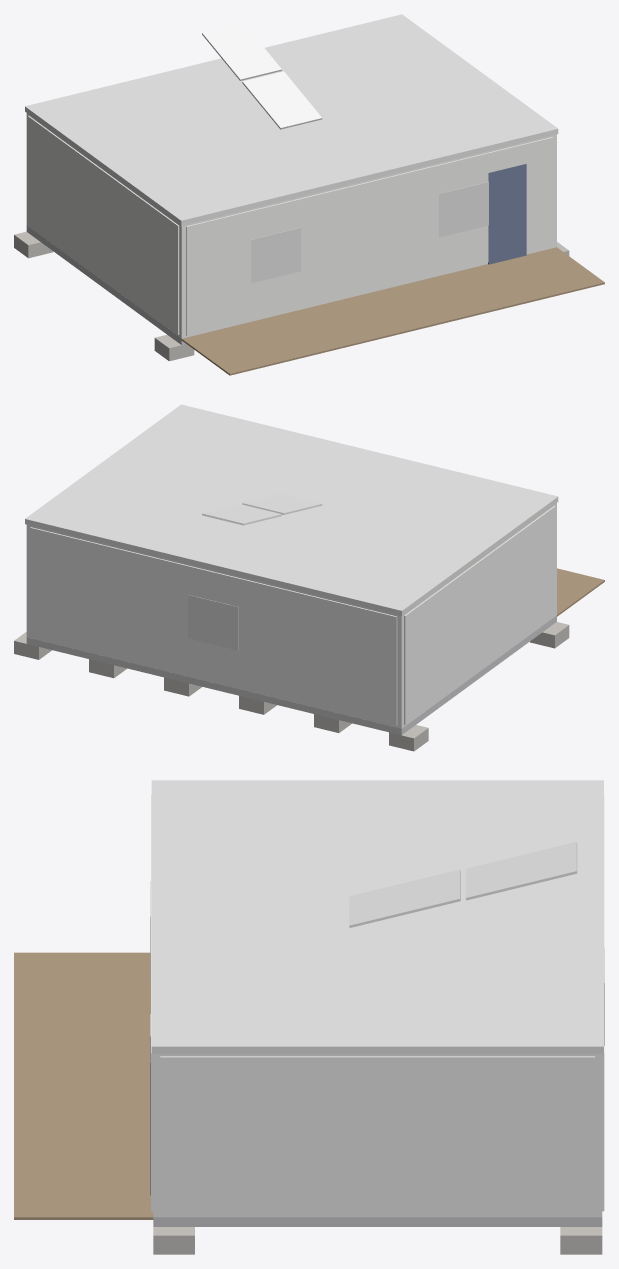
Rendered from Studio-30-FullSolar+TerraceDeck-LOD2.glb.
3 views of the same model, one above another, from view 1: azimuth 30°, elevation 25°; view 2: azimuth 150°, elevation 25°; view 3: azimuth 270°, elevation 25° (orthographic). The views are drawn at different scales.
Visible parts, largest first — view 1: RoofMain, ExteriorPanelsStandard, TerraceDeck, SolarPanelArray, WindowsStandard, EntryDoor, ExteriorShell, FoundationBlocks, BaseFrame; view 2: RoofMain, ExteriorPanelsStandard, BaseFrame, FoundationBlocks, ExteriorShell, WindowsStandard, SolarPanelArray, TerraceDeck; view 3: RoofMain, ExteriorPanelsStandard, TerraceDeck, SolarPanelArray, ExteriorShell, BaseFrame, FoundationBlocks.
Part boxes in pixels (x1,y1,x2,y2): RoofMain: [25, 14, 558, 225]; ExteriorPanelsStandard: [27, 115, 553, 335]; TerraceDeck: [181, 247, 604, 375]; SolarPanelArray: [202, 23, 322, 129]; WindowsStandard: [251, 181, 488, 283]; EntryDoor: [488, 164, 526, 264]; ExteriorShell: [26, 113, 556, 338]; FoundationBlocks: [14, 231, 569, 361]; BaseFrame: [26, 225, 185, 344]; RoofMain: [25, 404, 558, 615]; ExteriorPanelsStandard: [30, 506, 555, 725]; BaseFrame: [26, 615, 556, 735]; FoundationBlocks: [14, 622, 569, 751]; ExteriorShell: [26, 503, 556, 728]; WindowsStandard: [188, 595, 238, 650]; SolarPanelArray: [202, 493, 322, 525]; TerraceDeck: [557, 568, 604, 616]; RoofMain: [151, 780, 603, 1053]; ExteriorPanelsStandard: [151, 794, 604, 1215]; TerraceDeck: [14, 952, 153, 1219]; SolarPanelArray: [349, 842, 577, 927]; ExteriorShell: [153, 1054, 602, 1217]; BaseFrame: [153, 1217, 602, 1226]; FoundationBlocks: [153, 1227, 602, 1254].
Bounding box in the file's own units: 9.6 × 4.07 × 8.49.
